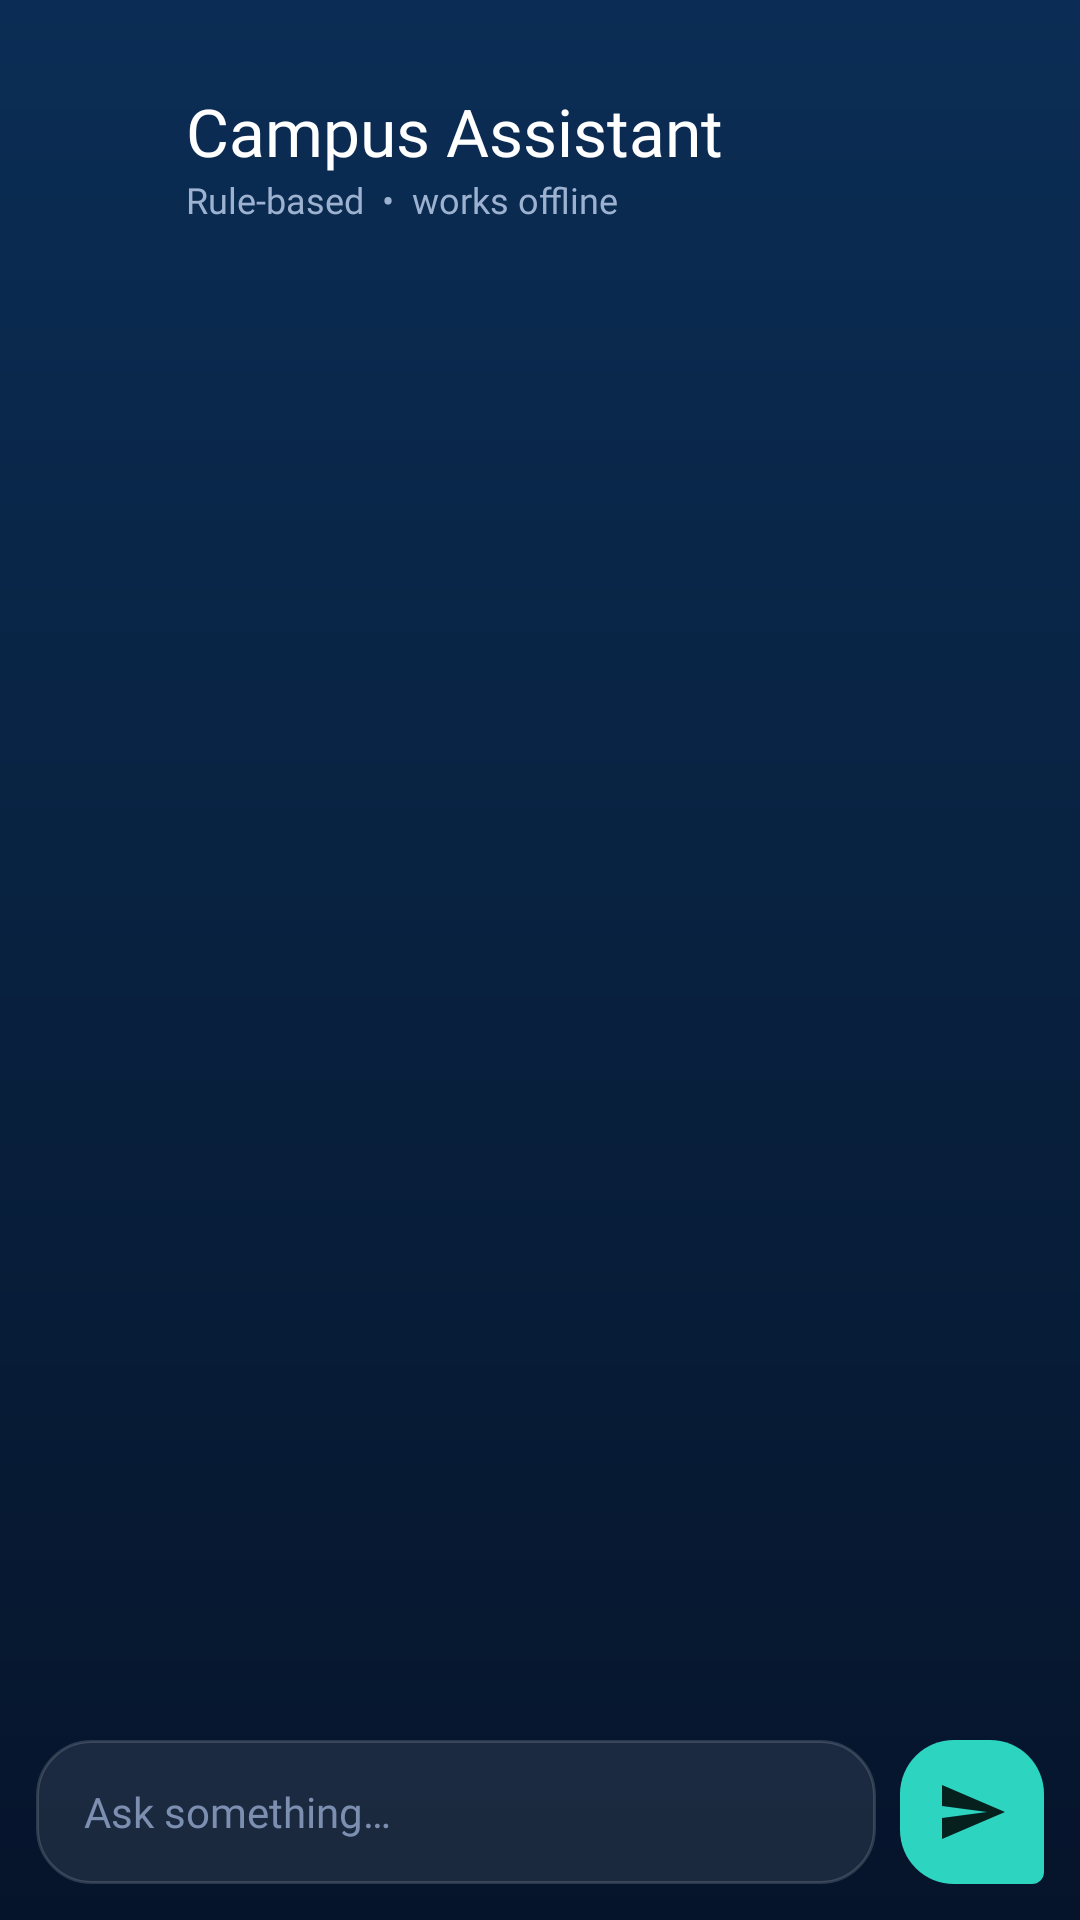

Where to tap for icons on this 1080x1920 app screen, as [x,y]:
Send: [972,1812]
